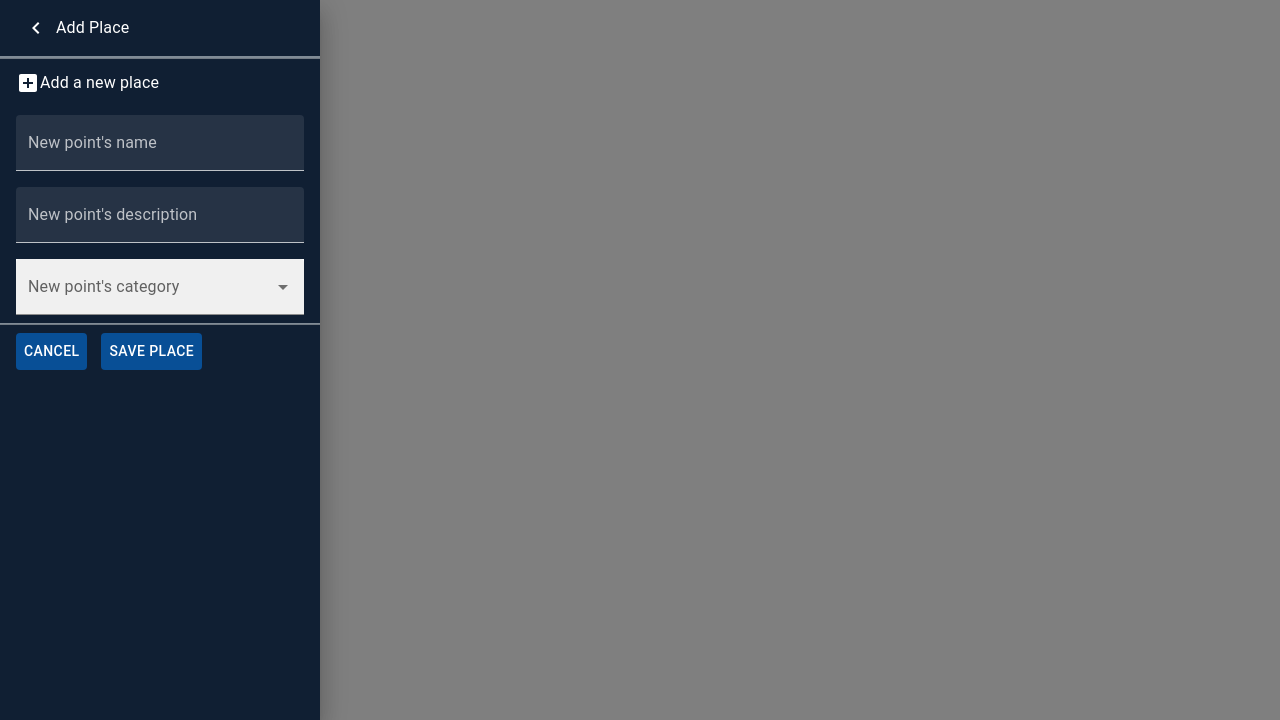
fill in AddPoint data no name
Click the button "Save Place".
click(152, 351)  # box left=102, top=333, right=202, bottom=370
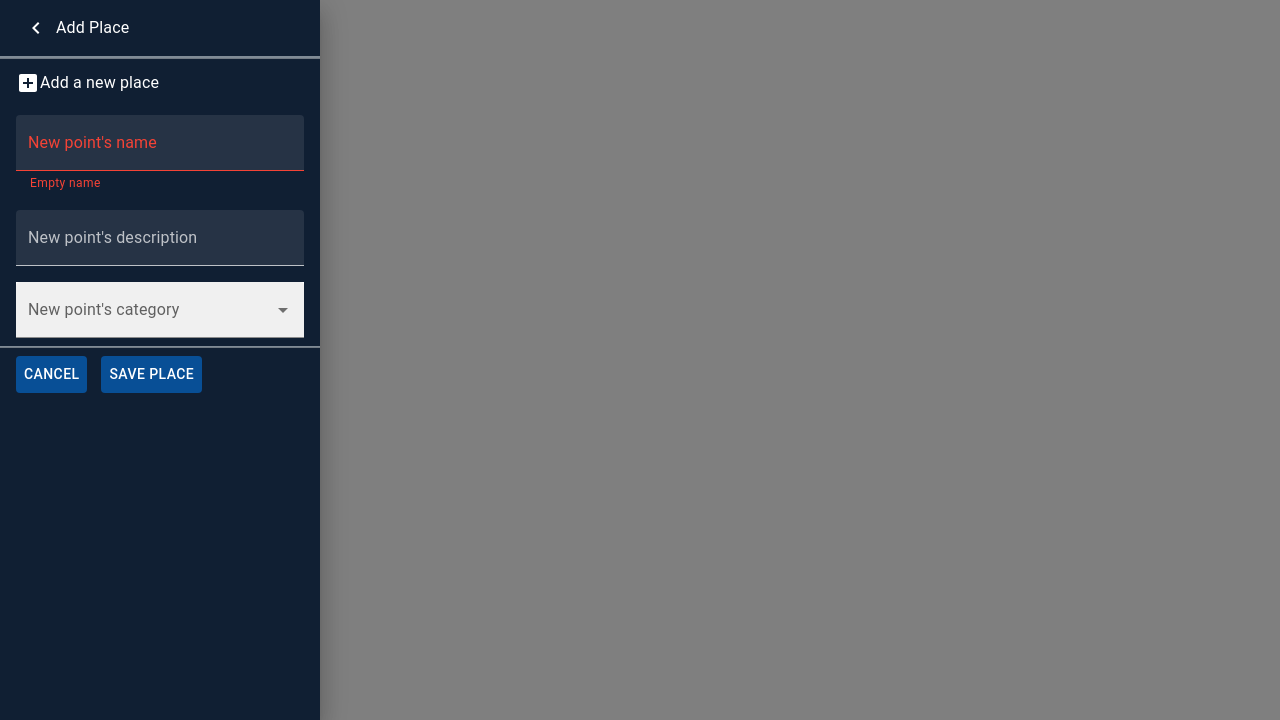
expect the text "Empty name" is shown: met, box left=30, top=176, right=101, bottom=190
